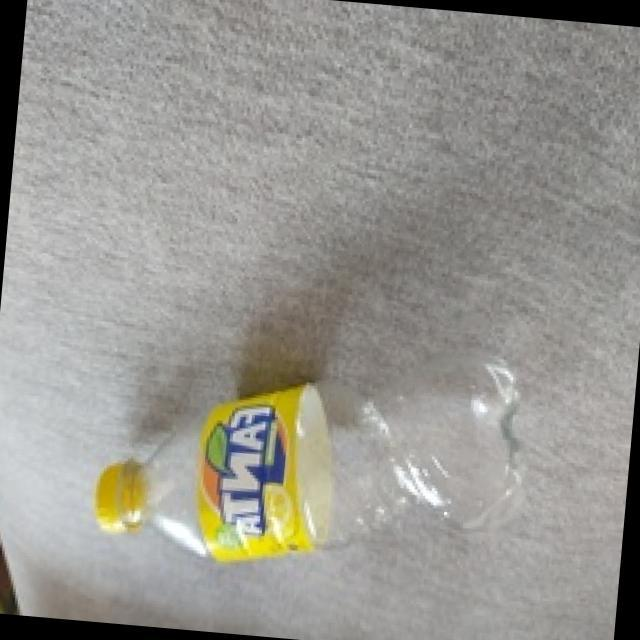good: (88, 322, 541, 598)
